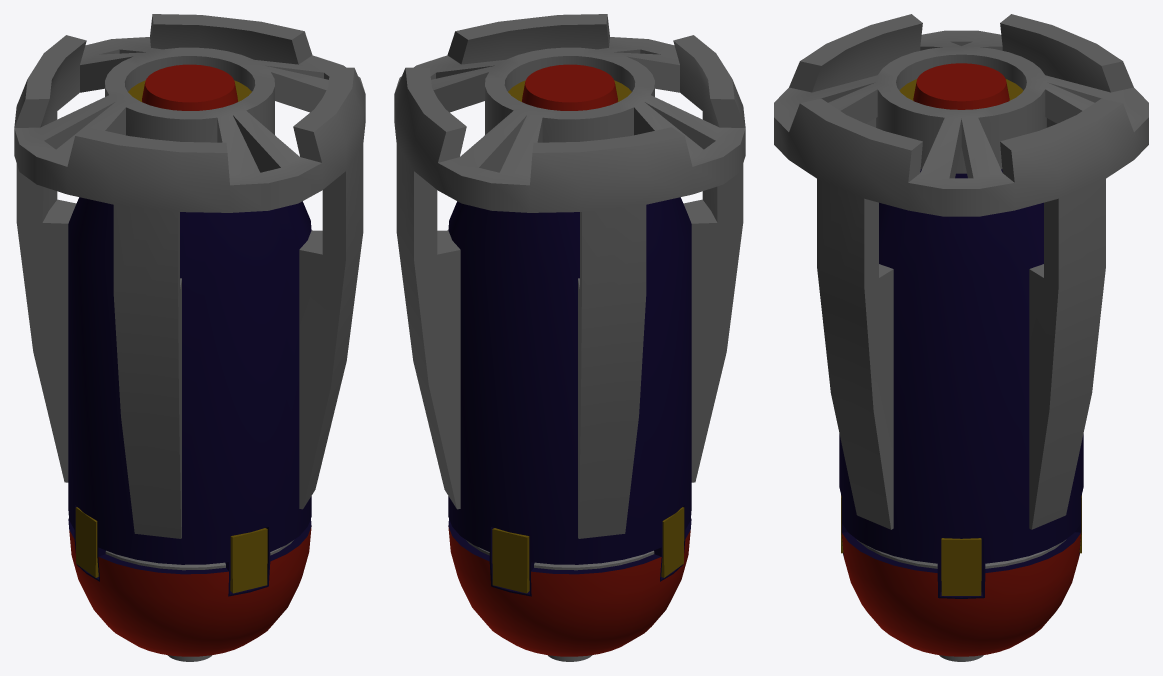
The model's file is Bomba.fbx.
3 renders of one model, left to right at view 1: azimuth 30°, elevation 25°; view 2: azimuth 150°, elevation 25°; view 3: azimuth 270°, elevation 25°, orthographic.
Parts seen in each view (by area): view 1: Bomba; view 2: Bomba; view 3: Bomba.
Boxes of the visible parts, x1,y1,x2,y2 form: Bomba: (14, 14, 365, 661); Bomba: (394, 14, 745, 661); Bomba: (774, 14, 1148, 661).
Size of the model in its own units: 307 by 515 by 307.
